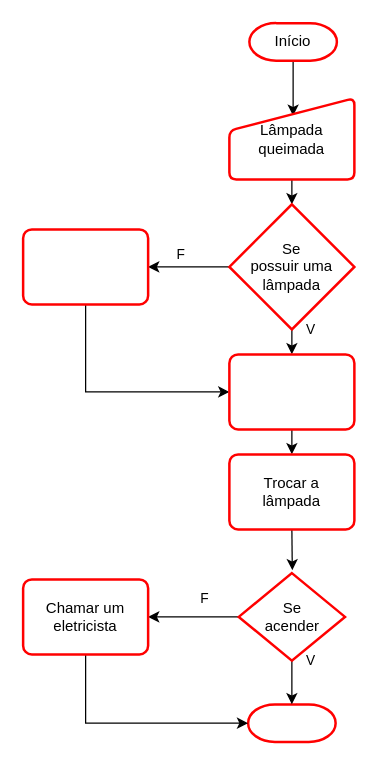
This 376x764 diagram has some shape labels left out. The centre of each missing label's shape, as x and y in pixels:
"Comprar uma lâmpada" goes at pixel 85 266.
"Fim" goes at pixel 291 722.
"Posicionar a escada" goes at pixel 291 391.
